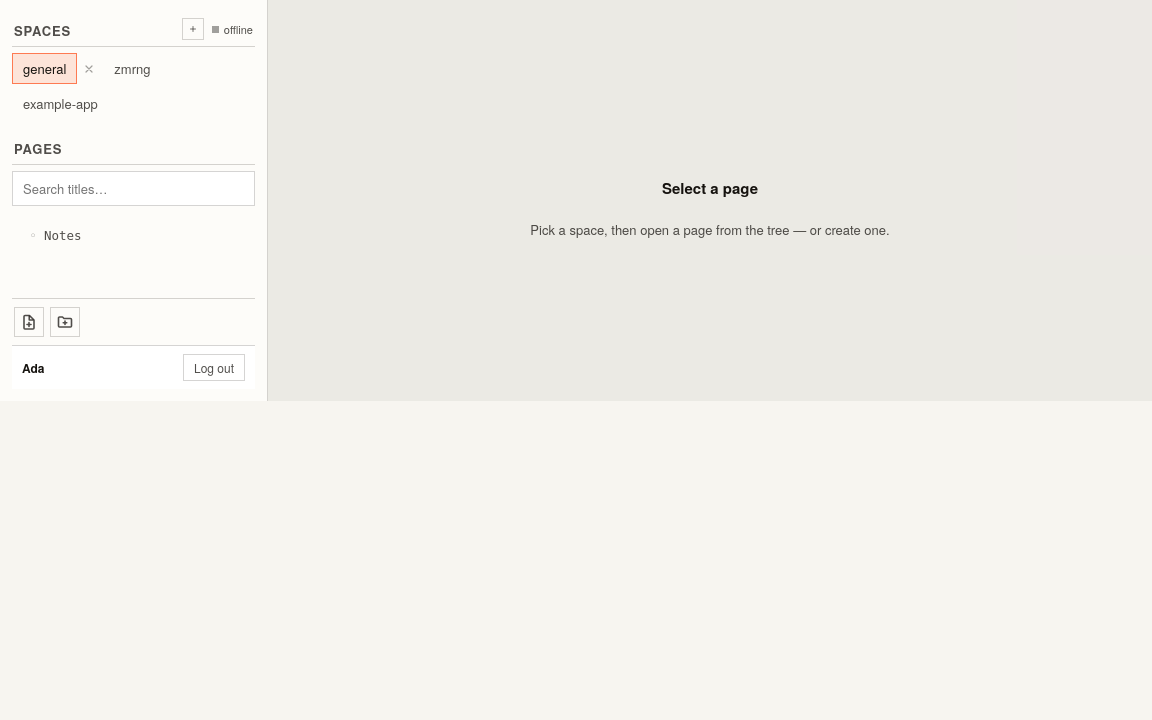
<KbView> changelog panel › fetches the space changelog and lists its entries newest first
The image size is (1152, 720).
Expected: the button "general" is shown, [12,53,77,84]
# The changelog sits with the other page actions, next to History.
Click the button "◦ Notes". click: [134, 236]
box: [18,222,249,250]
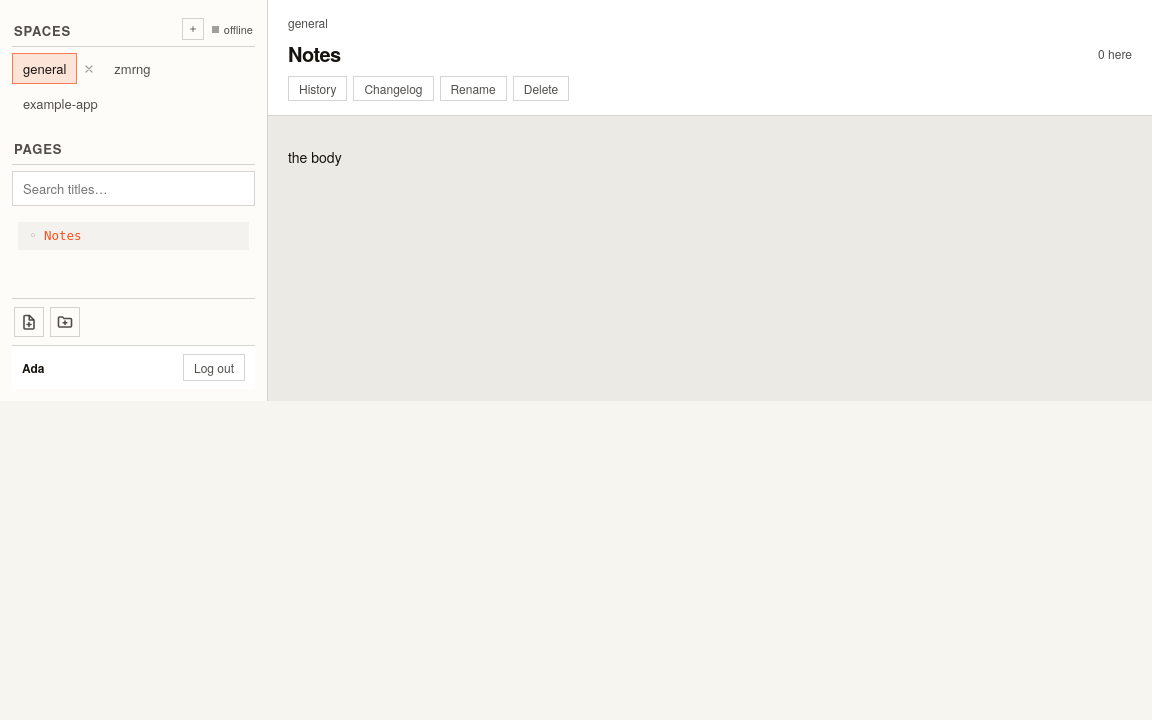
Click the button "Changelog". click: [394, 88]
box: [354,76,434,101]
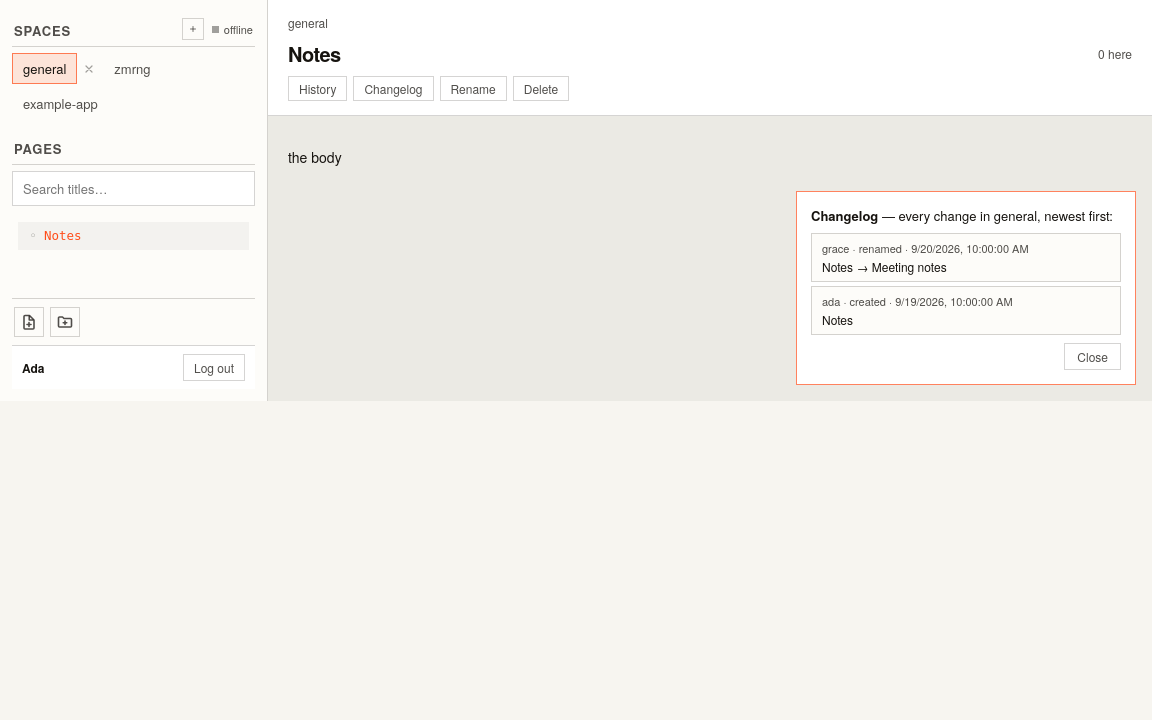
Now the text "Notes → Meeting notes" is shown, box [822,258,947,275]
Now the text "grace · renamed · 9/20/2026, 10:00:00 AM" is shown, box [822,240,1029,256]
Now the text "ada · created · 9/19/2026, 10:00:00 AM" is shown, box [822,293,1013,309]
